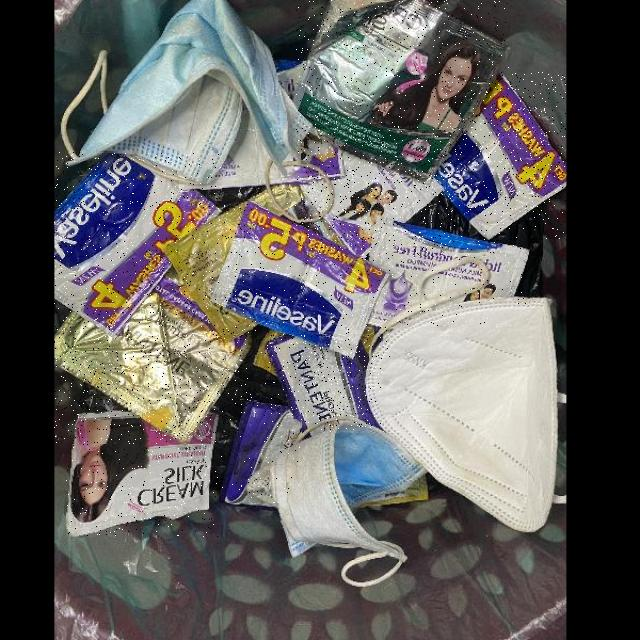wrapper: (296, 0, 509, 185), (55, 266, 252, 443), (55, 152, 222, 337), (210, 200, 390, 359), (435, 72, 566, 239), (66, 409, 218, 537), (368, 216, 530, 326), (301, 153, 443, 256), (163, 201, 259, 343), (265, 334, 382, 431), (220, 401, 301, 502)
